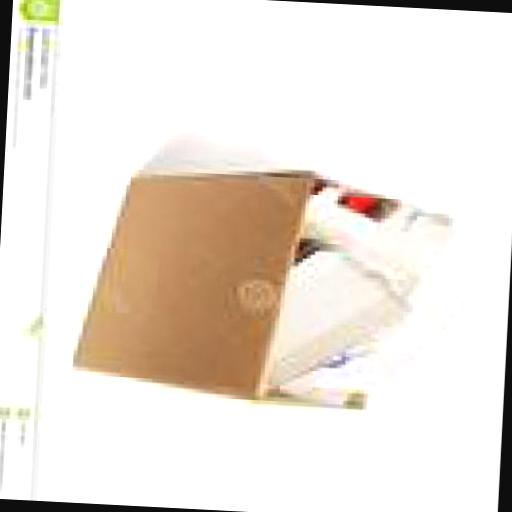cardboard: (76, 156, 389, 411), (306, 256, 480, 400), (274, 242, 417, 396), (306, 175, 464, 286), (384, 356, 442, 398)
